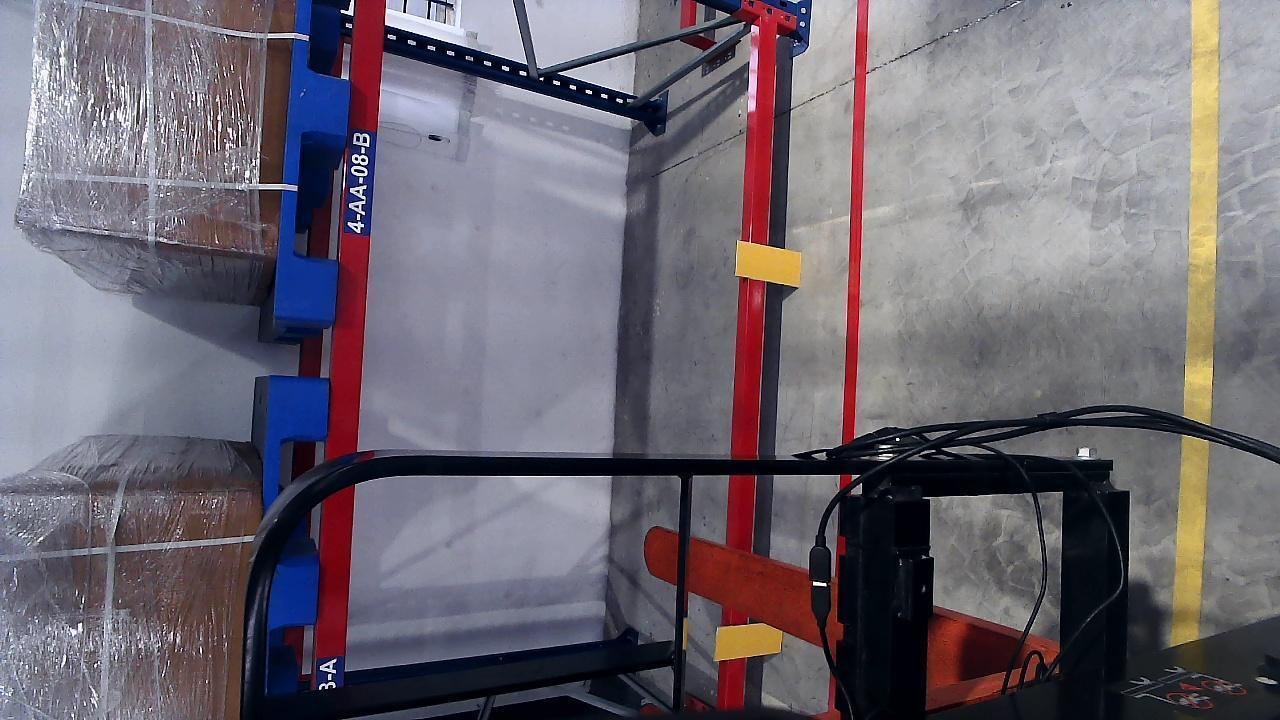red_line: (840, 7, 869, 442)
yellow_line: (1164, 0, 1221, 646)
